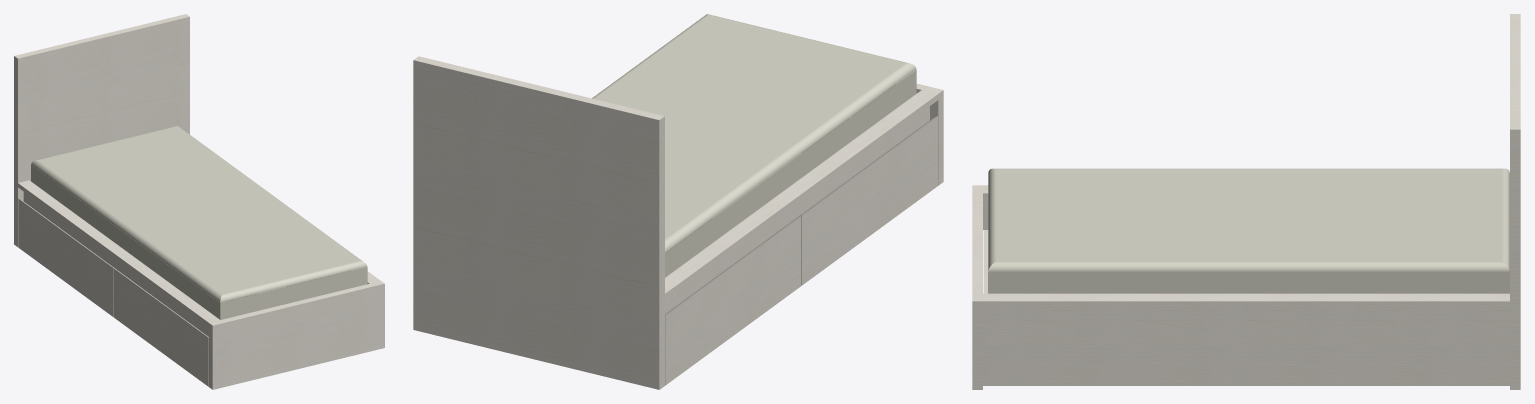
The model's file is sweethome3d-contributions-child-bed-460.glb.
3 renders of one model, left to right at view 1: azimuth 30°, elevation 25°; view 2: azimuth 150°, elevation 25°; view 3: azimuth 270°, elevation 25°, orthographic. The views are drawn at different scales.
Visible parts, largest first — view 1: Mesh3_Group1_Model, Mesh6_Group2_Model, Mesh9_Komponente_3_1_Model, Mesh11_Komponente_3_2_Model; view 2: Mesh3_Group1_Model, Mesh6_Group2_Model, Mesh11_Komponente_3_2_Model, Mesh9_Komponente_3_1_Model; view 3: Mesh6_Group2_Model, Mesh3_Group1_Model.
Part boxes in pixels (x1,y1,x2,y2): Mesh3_Group1_Model: (14,14,384,389); Mesh6_Group2_Model: (31,125,367,319); Mesh9_Komponente_3_1_Model: (18,198,170,316); Mesh11_Komponente_3_2_Model: (113,268,246,386); Mesh3_Group1_Model: (413,56,943,389); Mesh6_Group2_Model: (592,14,916,277); Mesh11_Komponente_3_2_Model: (716,116,937,285); Mesh9_Komponente_3_1_Model: (665,216,801,385); Mesh6_Group2_Model: (988,168,1509,293); Mesh3_Group1_Model: (972,14,1520,389).
Size of the model in its own units: 105 by 110 by 210.
Materials: 3 (2 with a texture image).
